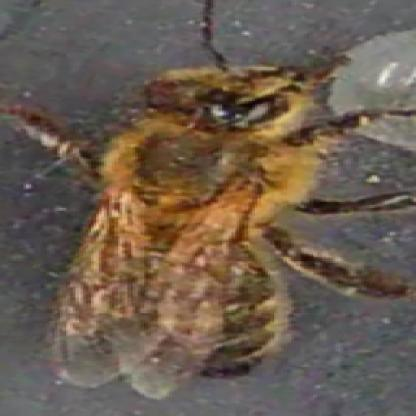bee: (66, 61, 302, 364)
